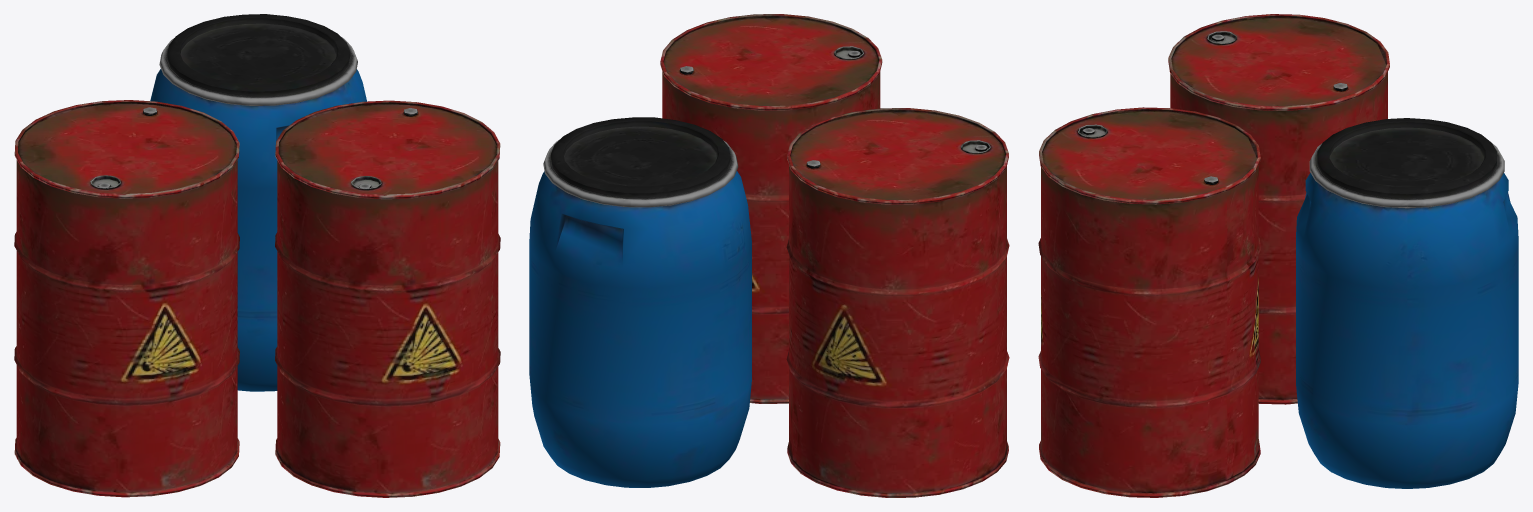
File: barrels.glb
3 views of the same model, side by side, from view 1: azimuth 30°, elevation 25°; view 2: azimuth 150°, elevation 25°; view 3: azimuth 270°, elevation 25° (orthographic).
Size of the model in its own units: 1.8 by 1.33 by 1.94.
Materials: 2 (2 with a texture image).
